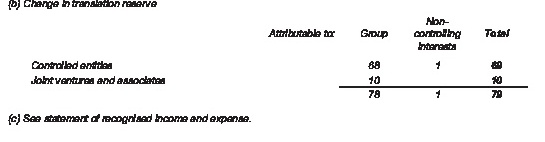table: (0, 0, 545, 142)
